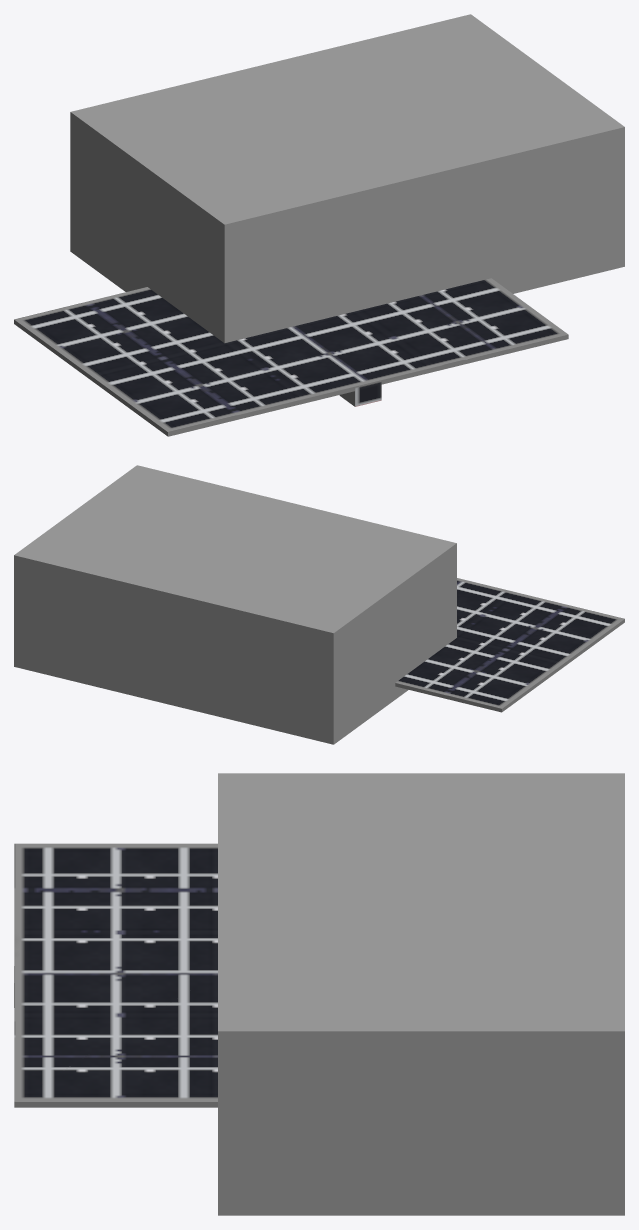
The model's file is monosolarpanel.obj.
3 views of the same model, one above another, from view 1: azimuth 30°, elevation 25°; view 2: azimuth 150°, elevation 25°; view 3: azimuth 270°, elevation 25° (orthographic). The views are drawn at different scales.
Visible parts, largest first — view 1: main, Minecraft_Block_Cube, Minecraft_Block.005_Cube.005, Minecraft_Block.004_Cube.004, Minecraft_Block.001_Cube.001, Minecraft_Block.003_Cube.003, Minecraft_Block.002_Cube.002; view 2: Minecraft_Block.001_Cube.001, Minecraft_Block.002_Cube.002, Minecraft_Block.003_Cube.003, main, Minecraft_Block_Cube, Minecraft_Block.004_Cube.004, Minecraft_Block.005_Cube.005; view 3: Minecraft_Block.005_Cube.005, Minecraft_Block.003_Cube.003, main, Minecraft_Block.002_Cube.002, Minecraft_Block.001_Cube.001, Minecraft_Block.004_Cube.004, Minecraft_Block_Cube.
Part boxes in pixels (x1=…): main: x1=14, y1=278, x2=568, y2=436; Minecraft_Block_Cube: x1=147, y1=136, x2=357, y2=343; Minecraft_Block.005_Cube.005: x1=414, y1=70, x2=624, y2=293; Minecraft_Block.004_Cube.004: x1=281, y1=103, x2=491, y2=310; Minecraft_Block.001_Cube.001: x1=70, y1=79, x2=280, y2=291; Minecraft_Block.003_Cube.003: x1=337, y1=14, x2=547, y2=102; Minecraft_Block.002_Cube.002: x1=204, y1=47, x2=413, y2=135; Minecraft_Block.001_Cube.001: x1=227, y1=562, x2=395, y2=744; Minecraft_Block.002_Cube.002: x1=120, y1=536, x2=288, y2=718; Minecraft_Block.003_Cube.003: x1=14, y1=510, x2=181, y2=692; main: x1=395, y1=578, x2=624, y2=712; Minecraft_Block_Cube: x1=289, y1=517, x2=456, y2=699; Minecraft_Block.004_Cube.004: x1=182, y1=491, x2=349, y2=561; Minecraft_Block.005_Cube.005: x1=76, y1=465, x2=243, y2=535; Minecraft_Block.005_Cube.005: x1=218, y1=945, x2=421, y2=1215; Minecraft_Block.003_Cube.003: x1=421, y1=945, x2=624, y2=1215; main: x1=14, y1=843, x2=217, y2=1107; Minecraft_Block.002_Cube.002: x1=421, y1=859, x2=624, y2=945; Minecraft_Block.001_Cube.001: x1=421, y1=773, x2=624, y2=859; Minecraft_Block.004_Cube.004: x1=218, y1=859, x2=421, y2=945; Minecraft_Block_Cube: x1=218, y1=773, x2=421, y2=859.
Size of the model in its own units: 4 by 1 by 3.
2 materials, 1 textured.
